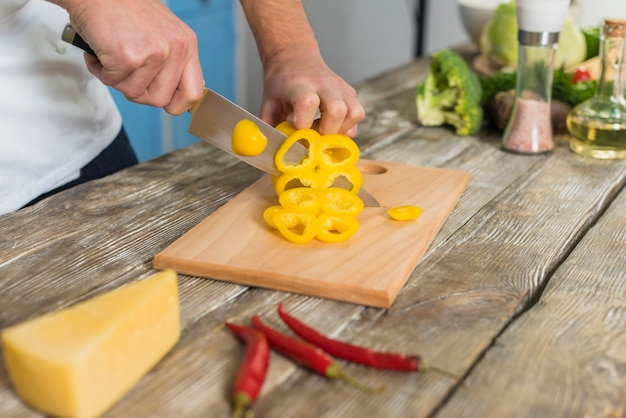knife: (189, 86, 381, 210)
